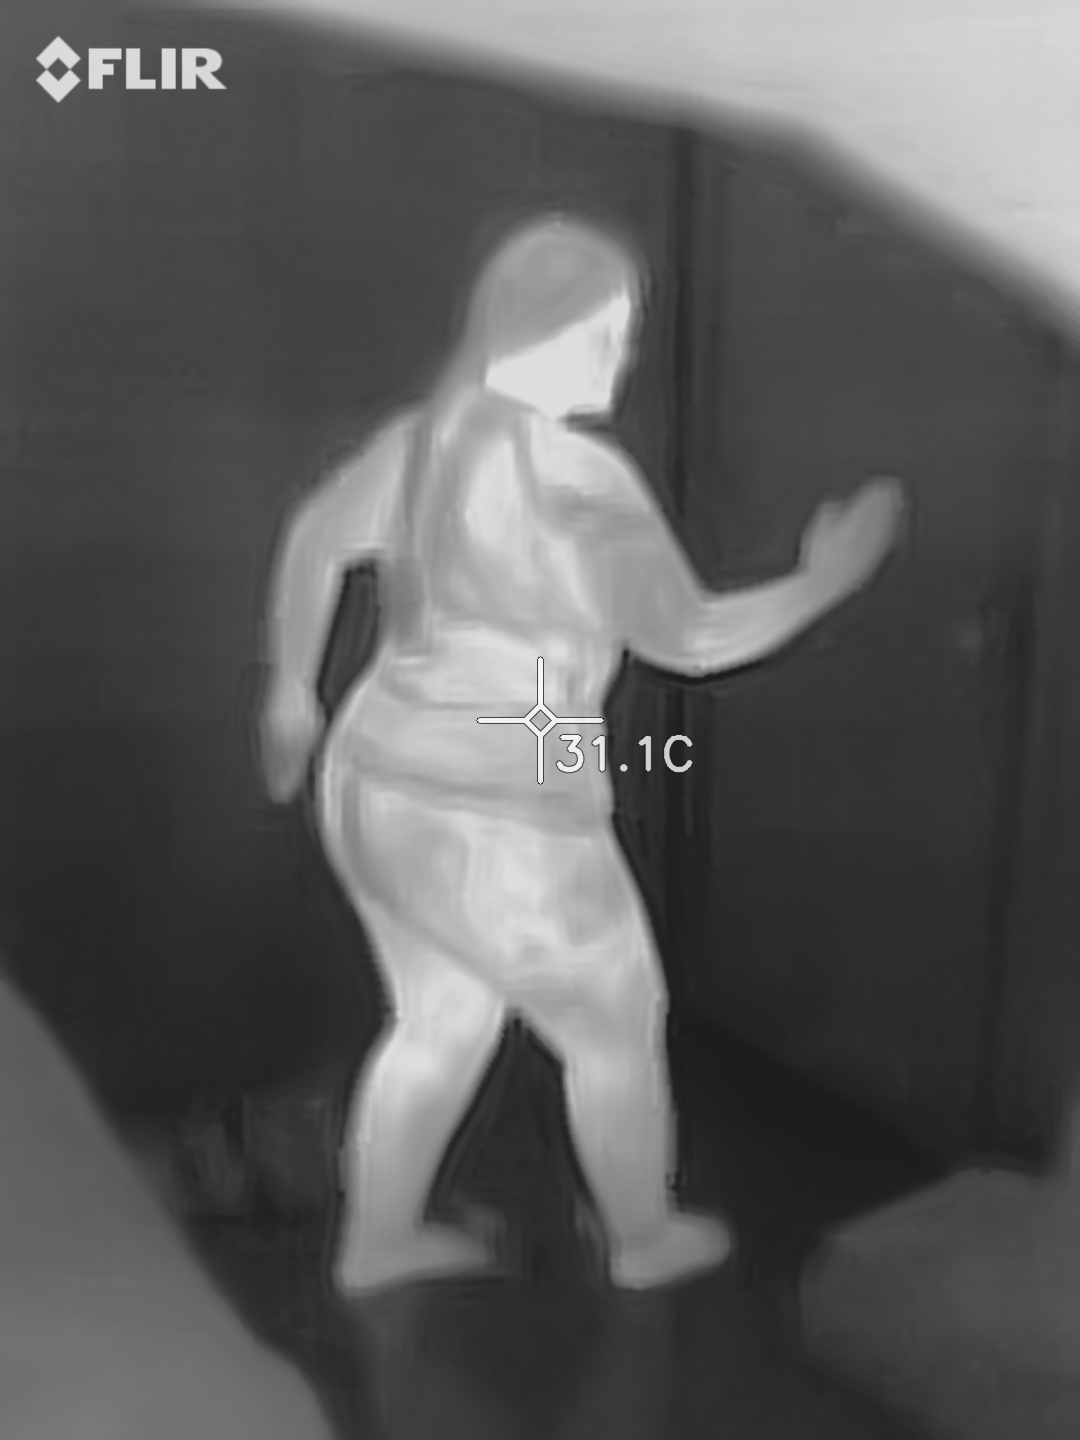head: (484, 214, 642, 418)
